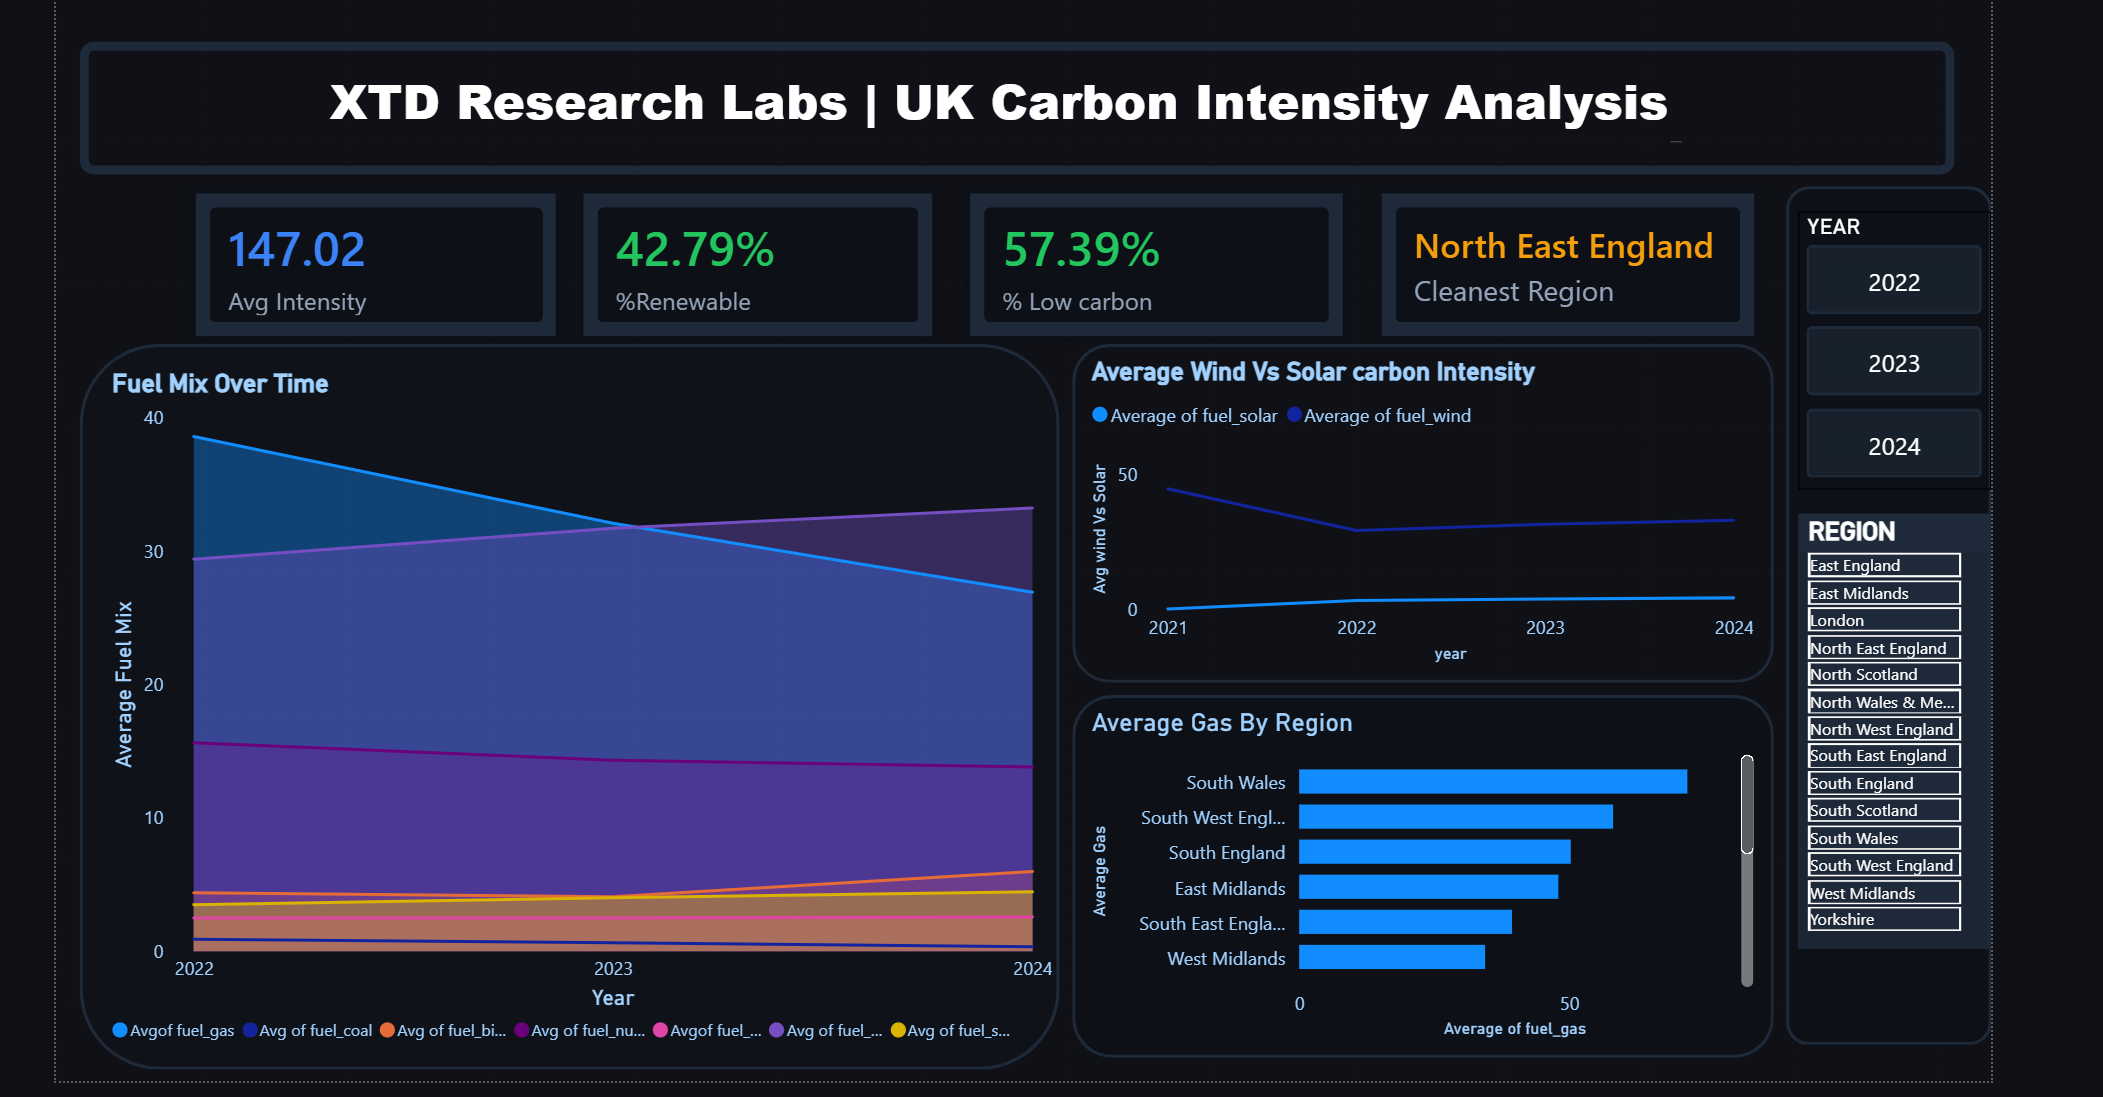

This screenshot's page, from the dashboard's own definition file:
{"tool":"powerbi","page":{"name":"FUEL MIX TRENDS","canvas":[1280,720],"ordinal":2},"visuals":[{"type":"shape","box":[16,32,1240,88],"z":0},{"type":"shape","box":[672,464,464,240],"z":1000},{"type":"shape","box":[16,232,648,480],"z":2000},{"type":"cardVisual","fields":{"Data":["carbon fact_historical_averages.%Renewable"]},"box":[344,128,240,104],"z":3000},{"type":"cardVisual","fields":{"Data":["carbon fact_historical_averages.Avg Intensity"]},"box":[88,128,248,104],"z":4000},{"type":"cardVisual","fields":{"Data":["carbon fact_historical_averages.% Low carbon"]},"box":[600,128,256,104],"z":5000},{"type":"cardVisual","fields":{"Data":["carbon fact_historical_averages.Cleanest Region"]},"box":[872,128,256,104],"z":6000},{"type":"textbox","title":"XTD Research Labs  |  UK Carbon Intensity Analysis","box":[168,48,912,56],"z":7000},{"type":"shape","box":[672,232,464,224],"z":8000},{"type":"shape","box":[1144,128,136,568],"z":10000},{"type":"listSlicer","title":"REGION","fields":{"Values":["carbon dim_region.shortname"]},"box":[1152,344,128,288],"z":11000},{"type":"advancedSlicerVisual","title":"YEAR","fields":{"Values":["carbon dim_date.year"]},"box":[1152,144,128,184],"z":12000},{"type":"areaChart","title":"Fuel Mix Over Time","fields":{"Category":["carbon dim_date.date_recorded.Variation.Date Hierarchy.Year","carbon dim_date.date_recorded.Variation.Date Hierarchy.Quarter","carbon dim_date.date_recorded.Variation.Date Hierarchy.Month","carbon dim_date.date_recorded.Variation.Date Hierarchy.Day"],"Y":["Avg(carbon fact_historical_averages.fuel_gas)","Avg(carbon fact_historical_averages.fuel_coal)","Avg(carbon fact_historical_averages.fuel_biomass)","Avg(carbon fact_historical_averages.fuel_nuclear)","Avg(carbon fact_historical_averages.fuel_hydro)","Avg(carbon fact_historical_averages.fuel_wind)","Avg(carbon fact_historical_averages.fuel_solar)"]},"box":[32,248,632,456],"z":14001},{"type":"lineChart","title":"Average Wind Vs Solar carbon Intensity","fields":{"Category":["carbon dim_date.year"],"Y":["Avg(carbon fact_historical_averages.fuel_solar)","Avg(carbon fact_historical_averages.fuel_wind)"]},"box":[680,240,448,208],"z":14002},{"type":"clusteredBarChart","title":"Average Gas By Region","fields":{"Category":["carbon dim_region.shortname"],"Y":["Avg(carbon fact_historical_averages.fuel_gas)"]},"box":[680,472,448,224],"z":14003}]}

Visuals, with their boxes on the page's 1280x720 design canvas (x1, y1, x2, y2). These are canvas units, not pixel positions in the 2103x1097 screenshot, which may show the page scaled, cropped or inside an application window:
shape: 16,32,1256,120
shape: 672,464,1136,704
shape: 16,232,664,712
cardVisual - carbon fact_historical_averages.%Renewable: 344,128,584,232
cardVisual - carbon fact_historical_averages.Avg Intensity: 88,128,336,232
cardVisual - carbon fact_historical_averages.% Low carbon: 600,128,856,232
cardVisual - carbon fact_historical_averages.Cleanest Region: 872,128,1128,232
"XTD Research Labs  |  UK Carbon Intensity Analysis" textbox: 168,48,1080,104
shape: 672,232,1136,456
shape: 1144,128,1280,696
"REGION" listSlicer: 1152,344,1280,632
"YEAR" advancedSlicerVisual: 1152,144,1280,328
"Fuel Mix Over Time" areaChart: 32,248,664,704
"Average Wind Vs Solar carbon Intensity" lineChart: 680,240,1128,448
"Average Gas By Region" clusteredBarChart: 680,472,1128,696
